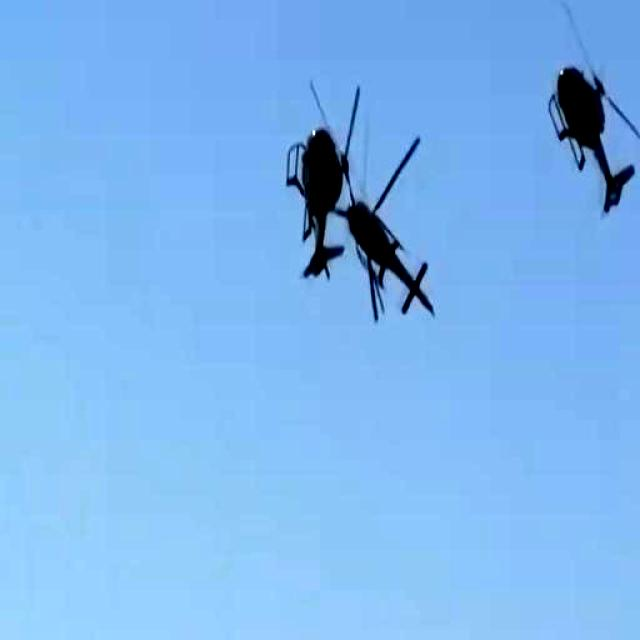drone: (344, 132, 458, 380), (540, 0, 640, 258), (272, 88, 361, 301)
